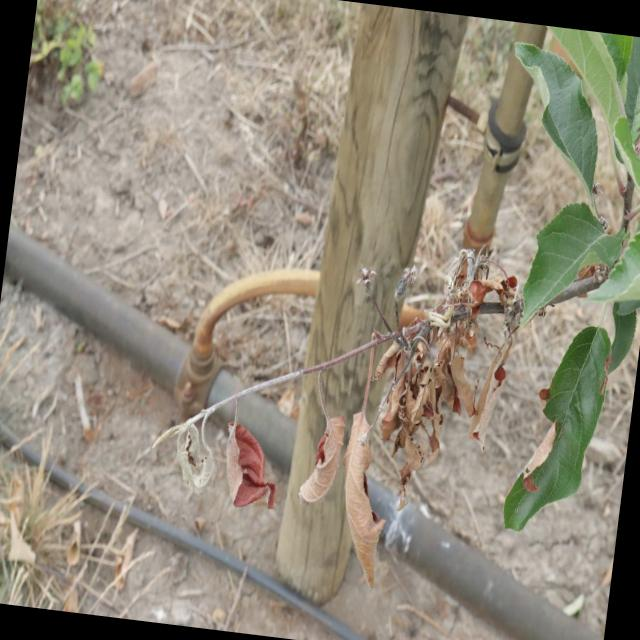-FireBlight-: (372, 306, 518, 454), (315, 394, 403, 592), (162, 401, 284, 506), (412, 236, 526, 326), (306, 408, 348, 511)
